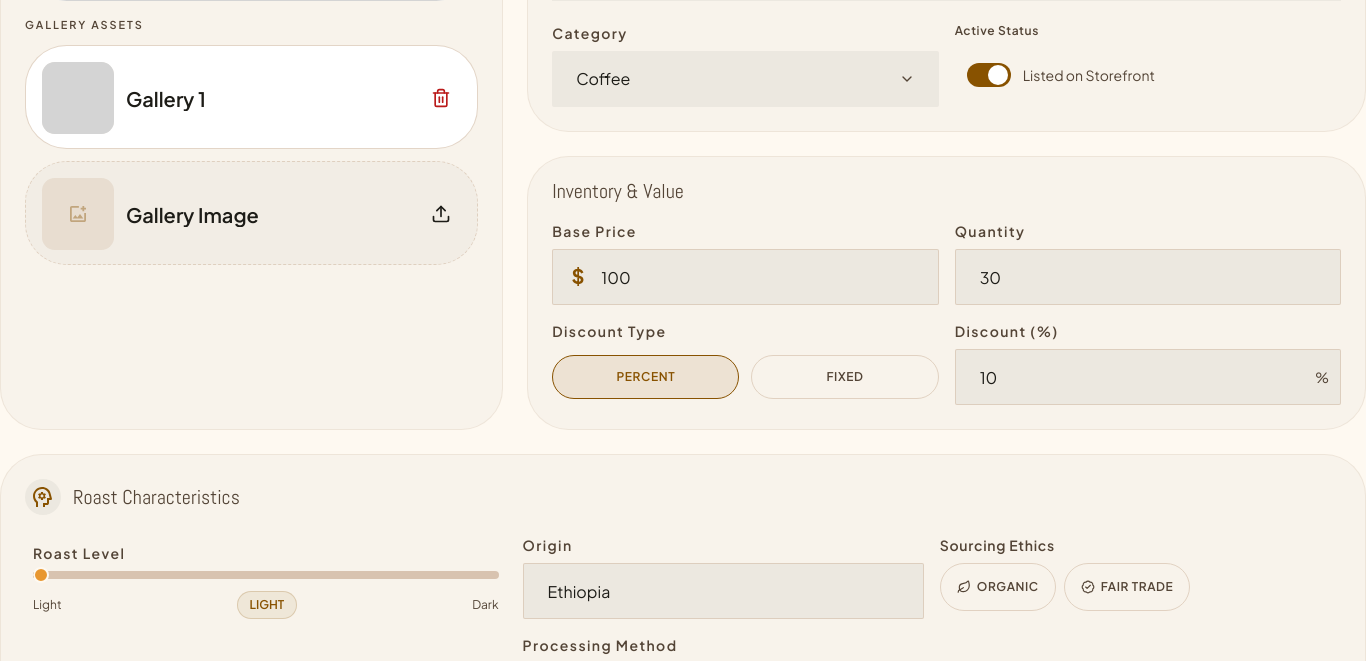
Test case: EditProductForm pricing › does not accept a base price above 99,999,999.99
(page scrolled)
Replace the text in the field labelled "Base Price" with "100000000". click: (746, 277)
box: [552,249,939,305]
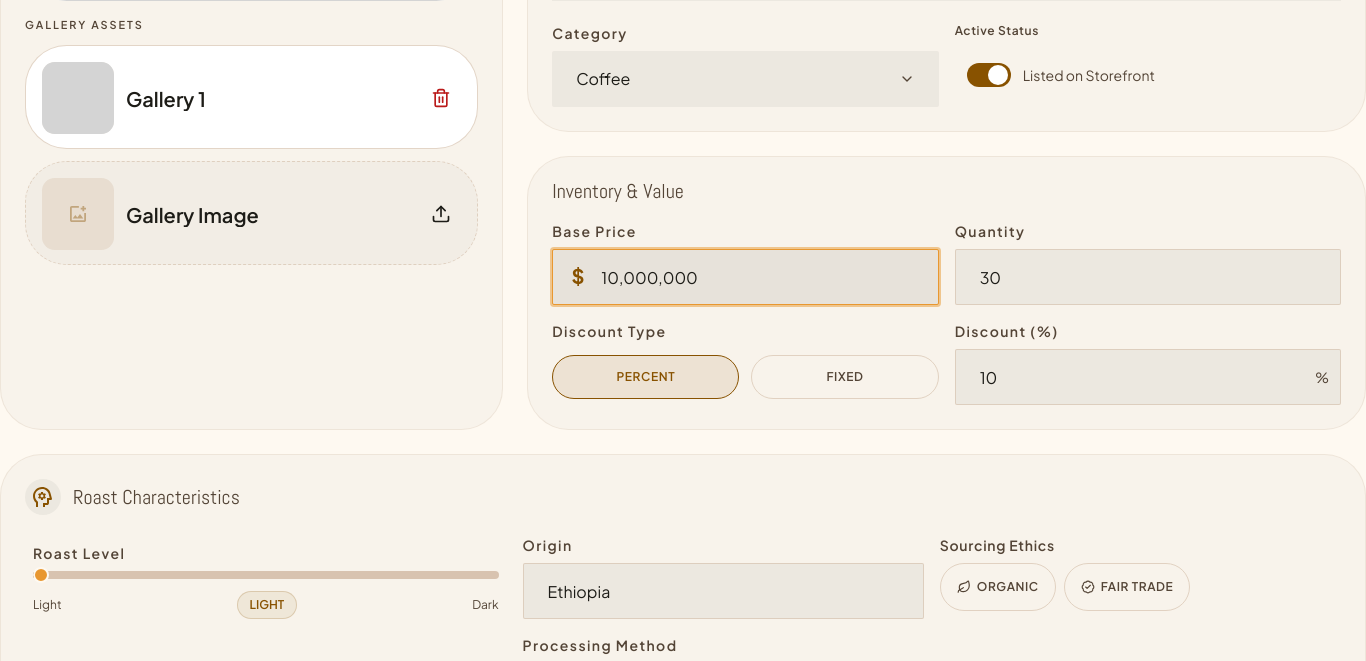
Check: the field labelled "Base Price" holds "10,000,000", box [552,249,939,305]
